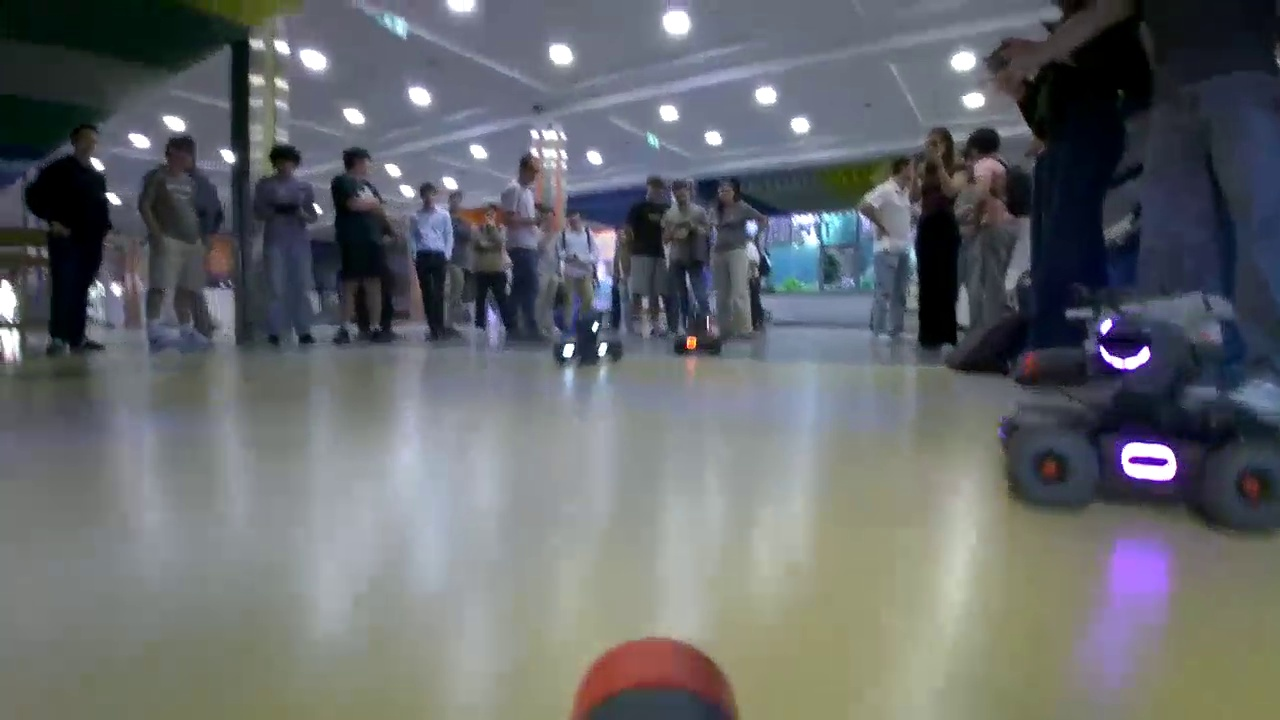robot: (1000, 289, 1280, 536), (552, 307, 626, 368), (674, 308, 725, 355)
